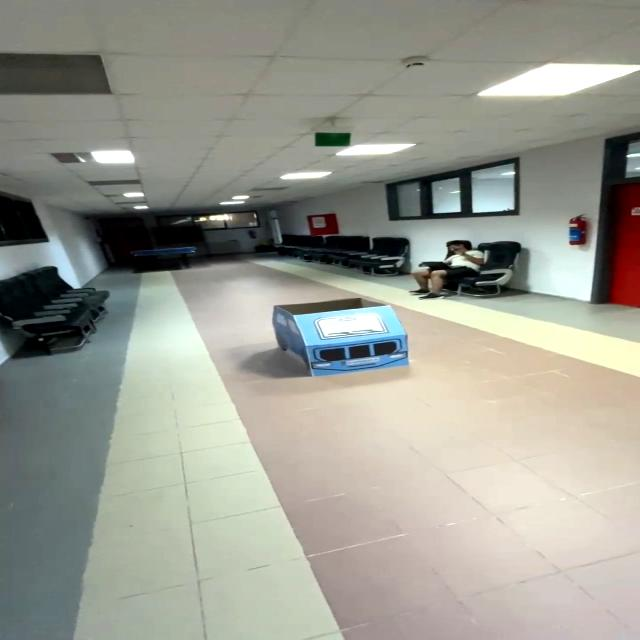blue_car: (245, 282, 418, 399)
